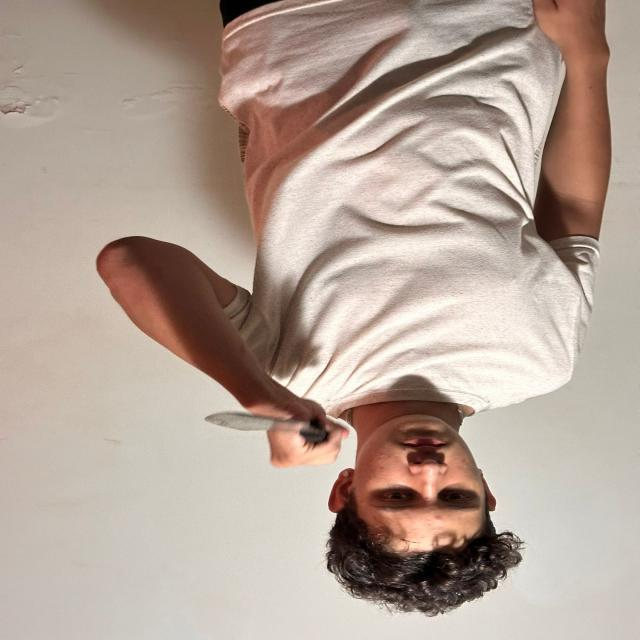knife: (206, 412, 314, 433)
